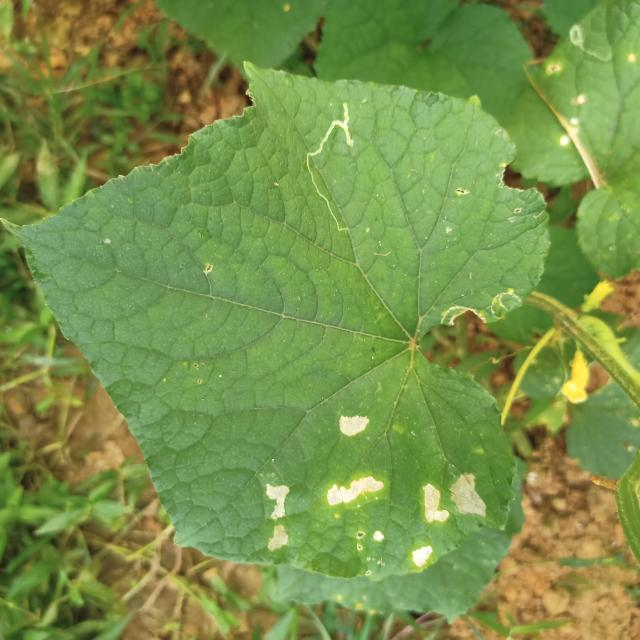disease_cucumber: (324, 465, 490, 573), (261, 477, 295, 558), (337, 406, 370, 444)
